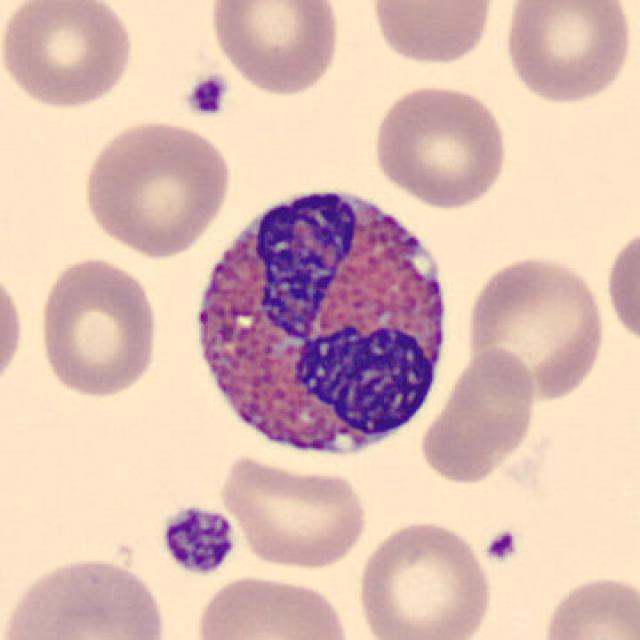Eosinophil: (183, 167, 461, 478)
Platelets: (156, 501, 238, 578), (183, 72, 229, 120), (483, 527, 521, 564)
RBC: (460, 250, 610, 404), (78, 115, 235, 259), (34, 252, 162, 400), (368, 79, 512, 210), (215, 453, 372, 573), (416, 342, 540, 487), (354, 516, 496, 640), (0, 0, 137, 113), (0, 552, 171, 640), (499, 0, 636, 106), (206, 0, 345, 99), (192, 571, 356, 640), (366, 0, 500, 67), (537, 571, 638, 640), (602, 218, 640, 352), (0, 259, 28, 396)
